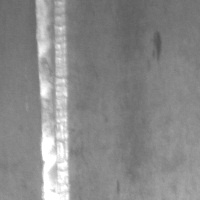inclusion: (149, 28, 165, 63)
scratches: (34, 1, 72, 199)
